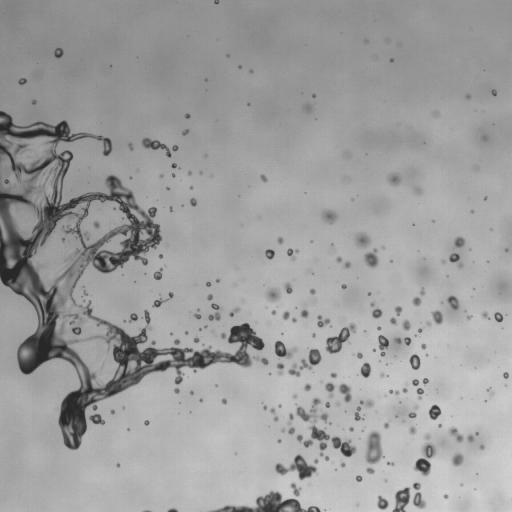droplet: (364, 430, 384, 464), (273, 340, 298, 359), (264, 287, 282, 307), (364, 247, 378, 268), (208, 302, 223, 321), (354, 232, 371, 248), (321, 209, 338, 224), (448, 426, 463, 442), (449, 253, 463, 269), (386, 172, 401, 186), (428, 404, 441, 420), (446, 295, 459, 310), (89, 413, 105, 425), (409, 353, 420, 370), (317, 314, 330, 328), (376, 495, 388, 510), (360, 362, 371, 378), (286, 248, 299, 261), (431, 310, 443, 324), (451, 452, 463, 466), (290, 482, 301, 496), (123, 313, 138, 323), (300, 303, 309, 318), (359, 399, 374, 408), (153, 267, 163, 280), (454, 236, 465, 247), (371, 307, 382, 318), (67, 122, 78, 133), (56, 140, 67, 151), (399, 176, 410, 187), (121, 178, 132, 189), (133, 194, 144, 205), (345, 236, 356, 247), (274, 245, 285, 256), (144, 248, 155, 259), (356, 258, 367, 269), (147, 260, 158, 271), (85, 263, 96, 274), (339, 268, 350, 279), (339, 271, 350, 282), (280, 299, 291, 310), (402, 301, 413, 312), (439, 303, 450, 314), (382, 307, 393, 318), (306, 313, 317, 324), (378, 314, 389, 325), (25, 324, 36, 335), (126, 326, 137, 337), (227, 342, 238, 353), (263, 342, 274, 353), (408, 342, 419, 353), (291, 352, 302, 363), (268, 353, 279, 364), (39, 360, 50, 371), (208, 361, 219, 372), (413, 368, 424, 379), (141, 373, 152, 384), (69, 380, 80, 391), (125, 384, 136, 395), (317, 389, 328, 400), (332, 389, 343, 400), (52, 395, 63, 406), (96, 397, 107, 408), (277, 408, 288, 419), (277, 416, 288, 427), (325, 426, 336, 437), (414, 436, 425, 447), (378, 437, 389, 448), (452, 442, 463, 453), (355, 443, 366, 454), (281, 456, 292, 467), (315, 460, 326, 471), (412, 470, 423, 481), (401, 319, 410, 331), (407, 423, 416, 435), (276, 362, 284, 375), (303, 103, 313, 113), (281, 310, 291, 320), (328, 243, 336, 255), (284, 282, 292, 294), (486, 386, 494, 398), (54, 48, 63, 58), (413, 186, 423, 195), (265, 249, 274, 259), (412, 296, 421, 306), (494, 312, 503, 322), (416, 388, 424, 399), (388, 389, 400, 396), (49, 117, 58, 126), (95, 140, 104, 149), (133, 140, 142, 149), (392, 165, 401, 174), (186, 175, 195, 184), (379, 175, 388, 184), (386, 183, 395, 192), (101, 185, 110, 194), (60, 195, 69, 204), (140, 202, 149, 211), (328, 203, 337, 212), (314, 206, 323, 215), (333, 217, 342, 226), (319, 219, 328, 228), (366, 229, 375, 238), (155, 242, 164, 251), (258, 286, 267, 295), (72, 287, 81, 296), (260, 296, 269, 305), (267, 300, 276, 309), (148, 307, 157, 316), (219, 308, 228, 317), (291, 308, 300, 317), (472, 312, 481, 321), (136, 318, 145, 327), (398, 329, 407, 338), (165, 339, 174, 348), (136, 342, 145, 351), (193, 343, 202, 352), (245, 344, 254, 353), (318, 347, 327, 356), (257, 348, 266, 357), (250, 358, 259, 367), (166, 366, 175, 375), (332, 377, 341, 386), (58, 389, 67, 398), (307, 389, 316, 398), (349, 397, 358, 406), (83, 406, 92, 415), (315, 420, 324, 429), (441, 422, 450, 431), (52, 423, 61, 432), (375, 424, 384, 433), (377, 427, 386, 436), (415, 427, 424, 436), (302, 430, 311, 439), (79, 433, 88, 442), (472, 436, 481, 445), (433, 443, 442, 452), (259, 487, 268, 496), (233, 498, 242, 507), (247, 499, 256, 508), (387, 499, 396, 508), (299, 500, 308, 509), (394, 306, 402, 316), (481, 311, 490, 319), (193, 335, 202, 343), (170, 162, 180, 169), (403, 505, 414, 511), (389, 317, 397, 325), (304, 383, 312, 391), (18, 78, 27, 85), (190, 197, 197, 206), (412, 377, 419, 386), (366, 467, 375, 474), (354, 475, 363, 482), (352, 352, 362, 358), (379, 372, 389, 378), (432, 110, 439, 118), (260, 174, 267, 182), (93, 220, 100, 228), (502, 371, 509, 379), (422, 378, 429, 386), (408, 411, 416, 418), (467, 434, 474, 442), (419, 287, 425, 296), (291, 391, 297, 400), (241, 65, 248, 72), (306, 96, 313, 103), (157, 147, 164, 154), (167, 156, 174, 163), (191, 169, 198, 176), (113, 170, 120, 177), (188, 190, 195, 197), (71, 191, 78, 198), (151, 216, 158, 223), (1, 232, 8, 239), (365, 245, 372, 252), (453, 246, 460, 253), (375, 251, 382, 258), (94, 269, 101, 276), (205, 286, 212, 293), (279, 288, 286, 295), (410, 304, 417, 311), (276, 309, 283, 316), (136, 310, 143, 317), (389, 310, 396, 317), (200, 313, 207, 320), (426, 314, 433, 321), (296, 315, 303, 322), (395, 315, 402, 322), (374, 317, 381, 324), (235, 319, 242, 326), (117, 321, 124, 328), (355, 324, 362, 331), (314, 326, 321, 333), (254, 330, 261, 337), (404, 330, 411, 337), (187, 332, 194, 339), (372, 340, 379, 347), (153, 342, 160, 349), (177, 342, 184, 349), (284, 343, 291, 350), (416, 349, 423, 356), (278, 355, 285, 362), (357, 358, 364, 365), (229, 361, 236, 368), (12, 362, 19, 369), (207, 363, 214, 370), (180, 365, 187, 372), (271, 366, 278, 373), (300, 367, 307, 374), (155, 369, 162, 376), (332, 386, 339, 393), (348, 388, 355, 395), (112, 392, 119, 399), (340, 400, 347, 407), (321, 406, 328, 413), (53, 410, 60, 417), (293, 414, 300, 421), (85, 419, 92, 426), (350, 419, 357, 426), (364, 427, 371, 434), (457, 427, 464, 434), (56, 434, 63, 441), (449, 434, 456, 441), (427, 437, 434, 444), (312, 438, 319, 445), (325, 439, 332, 446), (417, 451, 424, 458), (447, 451, 454, 458), (342, 455, 349, 462), (305, 458, 312, 465), (409, 458, 416, 465), (460, 459, 467, 466), (370, 462, 377, 469), (454, 464, 461, 471), (292, 469, 299, 476), (361, 471, 368, 478), (408, 488, 415, 495), (217, 501, 224, 508), (277, 236, 283, 244), (193, 313, 201, 319), (384, 420, 390, 428), (384, 506, 393, 511), (182, 129, 189, 135), (206, 294, 213, 300), (291, 316, 297, 323), (330, 372, 337, 378), (128, 142, 133, 150), (340, 459, 345, 467), (386, 461, 394, 466), (465, 93, 471, 99), (482, 135, 488, 141), (172, 145, 178, 151), (221, 398, 227, 404), (0, 218, 4, 227), (426, 320, 431, 327), (421, 343, 426, 350), (491, 89, 496, 95), (184, 113, 190, 118), (206, 281, 211, 287), (370, 301, 375, 307), (271, 309, 276, 315), (466, 315, 472, 320), (325, 401, 330, 407), (413, 404, 419, 409), (348, 426, 354, 431), (479, 444, 484, 450), (443, 494, 449, 499), (169, 205, 173, 212), (31, 99, 36, 104), (380, 245, 385, 250), (441, 259, 446, 264), (341, 284, 346, 289), (262, 405, 267, 410), (144, 420, 149, 425), (60, 54, 65, 59), (53, 56, 58, 61), (31, 94, 36, 99), (31, 104, 36, 109), (3, 108, 8, 113), (180, 111, 185, 116), (32, 117, 37, 122), (186, 117, 191, 122), (11, 119, 16, 124), (66, 120, 71, 125), (179, 126, 184, 131), (80, 127, 85, 132), (94, 130, 99, 135), (102, 132, 107, 137), (81, 136, 86, 141), (149, 136, 154, 141), (91, 137, 96, 142), (98, 139, 103, 144), (110, 140, 115, 145), (167, 144, 172, 149), (124, 145, 129, 150), (147, 146, 152, 151), (161, 148, 166, 153), (55, 149, 60, 154), (169, 149, 174, 154), (108, 151, 113, 156), (69, 159, 74, 164), (171, 167, 176, 172), (65, 170, 70, 175), (264, 172, 269, 177), (256, 176, 261, 181), (195, 199, 200, 204), (185, 200, 190, 205), (152, 202, 157, 207), (158, 230, 163, 235), (460, 233, 465, 238), (281, 234, 286, 239), (158, 240, 163, 245), (449, 240, 454, 245), (267, 244, 272, 249), (138, 251, 143, 256), (336, 251, 341, 256), (128, 254, 133, 259), (272, 254, 277, 259), (331, 255, 336, 260), (444, 256, 449, 261), (341, 257, 346, 262), (457, 257, 462, 262), (136, 258, 141, 263), (122, 261, 127, 266), (451, 261, 456, 266), (349, 263, 354, 268), (115, 265, 120, 270), (344, 267, 349, 272), (79, 274, 84, 279), (76, 279, 81, 284), (339, 279, 344, 284), (210, 280, 215, 285), (290, 284, 295, 289), (423, 287, 428, 292), (305, 290, 310, 295), (314, 290, 319, 295), (11, 291, 16, 296), (447, 291, 452, 296), (451, 291, 456, 296), (415, 292, 420, 297), (202, 293, 207, 298), (18, 294, 23, 299), (84, 295, 89, 300), (419, 295, 424, 300), (408, 296, 413, 301), (168, 297, 173, 302), (210, 298, 215, 303), (75, 299, 80, 304), (81, 301, 86, 306), (235, 301, 240, 306), (396, 301, 401, 306), (159, 302, 164, 307), (377, 304, 382, 309), (370, 305, 375, 310), (297, 306, 302, 311), (305, 306, 310, 311), (431, 306, 436, 311), (227, 307, 232, 312), (210, 308, 215, 313), (90, 310, 95, 315), (148, 312, 153, 317), (367, 312, 372, 317), (461, 312, 466, 317), (288, 313, 293, 318), (489, 313, 494, 318), (269, 314, 274, 319), (102, 315, 107, 320), (441, 315, 446, 320), (502, 315, 507, 320), (191, 316, 196, 321), (286, 317, 291, 322), (313, 317, 318, 322), (482, 317, 487, 322), (490, 317, 495, 322), (211, 318, 216, 323), (430, 319, 435, 324), (248, 323, 253, 328), (323, 323, 328, 328), (389, 323, 394, 328), (377, 329, 382, 334), (145, 330, 150, 335), (225, 331, 230, 336), (333, 331, 338, 336), (384, 333, 389, 338), (170, 335, 175, 340), (347, 335, 352, 340), (399, 335, 404, 340), (410, 336, 415, 341), (261, 338, 266, 343), (387, 339, 392, 344), (400, 339, 405, 344), (341, 341, 346, 346), (425, 343, 430, 348), (311, 344, 316, 349), (209, 347, 214, 352), (382, 347, 387, 352), (375, 348, 380, 353), (334, 351, 339, 356), (331, 352, 336, 357), (352, 354, 357, 359), (405, 354, 410, 359), (257, 360, 262, 365), (66, 361, 71, 366), (297, 361, 302, 366), (311, 364, 316, 369), (195, 366, 200, 371), (330, 367, 335, 372), (16, 368, 21, 373), (356, 369, 361, 374), (368, 371, 373, 376), (358, 373, 363, 378), (290, 374, 295, 379), (501, 377, 506, 382), (306, 379, 311, 384), (344, 380, 349, 385), (300, 382, 305, 387), (417, 382, 422, 387), (175, 383, 180, 388), (320, 383, 325, 388), (310, 384, 315, 389), (412, 385, 417, 390), (397, 386, 402, 391), (398, 390, 403, 395), (287, 391, 292, 396), (413, 392, 418, 397), (222, 393, 227, 398), (361, 396, 366, 401), (216, 398, 221, 403), (94, 400, 99, 405), (329, 401, 334, 406), (436, 402, 441, 407), (266, 404, 271, 409), (426, 404, 431, 409), (370, 405, 375, 410), (274, 407, 279, 412), (409, 407, 414, 412), (304, 408, 309, 413), (413, 408, 418, 413), (291, 409, 296, 414), (358, 411, 363, 416), (424, 412, 429, 417), (269, 413, 274, 418), (100, 414, 105, 419), (284, 414, 289, 419), (436, 414, 441, 419), (326, 416, 331, 421), (382, 417, 387, 422), (356, 419, 361, 424), (96, 422, 101, 427), (388, 422, 393, 427), (453, 423, 458, 428), (344, 424, 349, 429), (284, 425, 289, 430), (414, 425, 419, 430), (404, 427, 409, 432), (324, 429, 329, 434), (283, 430, 288, 435), (292, 431, 297, 436), (408, 433, 413, 438), (462, 435, 467, 440), (78, 443, 83, 448), (483, 443, 488, 448), (63, 445, 68, 450), (335, 447, 340, 452), (71, 448, 76, 453), (291, 452, 296, 457), (350, 452, 355, 457), (319, 456, 324, 461), (270, 464, 275, 469), (336, 464, 341, 469), (276, 472, 281, 477), (303, 476, 308, 481), (398, 485, 403, 490), (272, 487, 277, 492), (392, 488, 397, 493), (298, 489, 303, 494), (381, 493, 386, 498), (291, 494, 296, 499), (420, 494, 425, 499), (280, 496, 285, 501), (408, 496, 413, 501), (373, 497, 378, 502), (167, 504, 172, 509), (318, 505, 323, 510), (203, 325, 209, 329), (311, 332, 315, 338), (278, 403, 282, 409), (0, 116, 3, 123), (214, 0, 219, 4), (389, 58, 394, 62), (248, 69, 253, 73), (312, 93, 316, 98), (187, 170, 191, 175), (165, 186, 170, 190), (483, 196, 487, 201), (158, 254, 163, 258), (184, 330, 188, 335), (189, 390, 193, 395), (335, 402, 340, 406), (110, 409, 114, 414), (438, 423, 442, 428), (280, 428, 285, 432), (277, 438, 281, 443), (116, 462, 120, 467), (364, 39, 368, 43), (238, 65, 242, 69), (171, 173, 175, 177), (159, 174, 163, 178), (189, 185, 193, 189), (470, 209, 474, 213), (431, 219, 435, 223), (504, 248, 508, 252), (389, 259, 393, 263), (216, 278, 220, 282), (367, 291, 371, 295), (196, 308, 200, 312), (377, 326, 381, 330), (319, 380, 323, 384), (199, 398, 203, 402), (232, 283, 237, 286), (384, 478, 387, 483), (508, 247, 511, 252), (508, 372, 511, 377), (378, 508, 383, 511), (226, 54, 230, 57), (247, 102, 250, 106), (199, 171, 202, 175), (350, 198, 354, 201), (198, 328, 202, 331), (169, 332, 173, 335), (372, 348, 375, 352), (425, 353, 428, 357), (214, 384, 218, 387), (384, 393, 387, 397), (475, 432, 479, 435), (356, 502, 359, 506), (0, 279, 2, 284), (204, 78, 207, 81), (204, 154, 207, 157), (129, 176, 132, 179), (489, 228, 492, 231), (310, 240, 313, 243), (422, 257, 425, 260), (486, 260, 489, 263), (164, 264, 167, 267), (82, 299, 85, 302), (440, 301, 443, 304), (294, 306, 297, 309), (363, 329, 366, 332), (202, 343, 205, 346), (268, 372, 271, 375), (504, 383, 507, 386), (398, 400, 401, 403), (122, 406, 125, 409), (374, 410, 377, 413), (395, 414, 398, 417), (127, 428, 130, 431), (334, 468, 337, 471), (460, 483, 463, 486), (214, 3, 217, 6), (57, 44, 60, 47), (51, 52, 54, 55), (388, 55, 391, 58), (386, 58, 389, 61), (393, 58, 396, 61), (108, 61, 111, 64), (390, 61, 393, 64), (239, 62, 242, 65), (235, 63, 238, 66), (111, 64, 114, 67), (235, 66, 238, 69), (252, 68, 255, 71), (249, 72, 252, 75), (23, 75, 26, 78), (207, 78, 210, 81), (16, 82, 19, 85), (23, 82, 26, 85), (495, 92, 498, 95), (308, 94, 311, 97), (492, 95, 495, 98), (314, 96, 317, 99), (28, 99, 31, 102), (244, 100, 247, 103), (35, 101, 38, 104), (249, 101, 252, 104), (247, 105, 250, 108), (187, 111, 190, 114), (184, 117, 187, 120), (184, 126, 187, 129), (185, 133, 188, 136), (76, 138, 79, 141), (159, 140, 162, 143), (125, 141, 128, 144), (177, 144, 180, 147), (71, 151, 74, 154), (72, 154, 75, 157), (165, 155, 168, 158), (168, 163, 171, 166), (159, 170, 162, 173), (184, 171, 187, 174), (130, 173, 133, 176), (169, 175, 172, 178), (173, 176, 176, 179), (159, 177, 162, 180), (187, 183, 190, 186), (167, 184, 170, 187), (192, 185, 195, 188), (187, 188, 190, 191), (303, 188, 306, 191), (165, 189, 168, 192), (481, 195, 484, 198), (486, 197, 489, 200), (191, 205, 194, 208), (180, 206, 183, 209), (166, 207, 169, 210), (171, 207, 174, 210), (472, 207, 475, 210), (473, 210, 476, 213), (170, 211, 173, 214), (468, 212, 471, 215), (432, 216, 435, 219), (434, 220, 437, 223), (409, 221, 412, 224), (414, 222, 417, 225), (411, 225, 414, 228), (310, 236, 313, 239), (332, 241, 335, 244), (327, 242, 330, 245), (504, 244, 507, 247), (148, 246, 151, 249), (284, 248, 287, 251), (262, 249, 265, 252), (501, 249, 504, 252), (284, 252, 287, 255), (162, 254, 165, 257), (156, 256, 159, 259), (390, 256, 393, 259), (160, 257, 163, 260), (265, 257, 268, 260), (487, 257, 490, 260), (387, 261, 390, 264), (146, 262, 149, 265), (161, 265, 164, 268), (311, 269, 314, 272), (82, 270, 85, 273), (308, 272, 311, 275), (150, 274, 153, 277), (161, 274, 164, 277), (132, 277, 135, 280), (207, 278, 210, 281), (135, 279, 138, 282), (155, 279, 158, 282), (203, 280, 206, 283), (217, 281, 220, 284), (132, 282, 135, 285), (345, 283, 348, 286), (338, 284, 341, 287), (472, 284, 475, 287), (204, 285, 207, 288), (208, 285, 211, 288), (309, 285, 312, 288), (339, 287, 342, 290), (344, 287, 347, 290), (169, 289, 172, 292), (85, 290, 88, 293), (290, 291, 293, 294), (80, 292, 83, 295), (364, 292, 367, 295), (370, 292, 373, 295), (166, 294, 169, 297), (172, 294, 175, 297), (367, 295, 370, 298), (150, 301, 153, 304), (218, 304, 221, 307), (130, 310, 133, 313), (196, 311, 199, 314), (467, 312, 470, 315), (501, 313, 504, 316), (127, 316, 130, 319), (470, 316, 473, 319), (196, 318, 199, 321), (149, 319, 152, 322), (497, 321, 500, 324), (200, 325, 203, 328), (419, 325, 422, 328), (206, 326, 209, 329), (363, 326, 366, 329), (195, 327, 198, 330), (170, 329, 173, 332), (187, 329, 190, 332), (281, 329, 284, 332), (421, 329, 424, 332), (166, 331, 169, 334), (361, 331, 364, 334), (415, 331, 418, 334), (308, 333, 311, 336), (314, 333, 317, 336), (280, 339, 283, 342), (422, 340, 425, 343), (409, 341, 412, 344), (358, 349, 361, 352), (361, 352, 364, 355), (427, 352, 430, 355), (380, 355, 383, 358), (419, 359, 422, 362), (407, 361, 410, 364), (387, 363, 390, 366), (408, 364, 411, 367), (500, 371, 503, 374), (266, 374, 269, 377), (269, 374, 272, 377), (383, 375, 386, 378), (500, 375, 503, 378), (426, 376, 429, 379), (214, 380, 217, 383), (409, 380, 412, 383), (425, 382, 428, 385), (217, 383, 220, 386), (211, 384, 214, 387), (402, 384, 405, 387), (485, 385, 488, 388), (215, 386, 218, 389), (388, 386, 391, 389), (192, 389, 195, 392), (171, 390, 174, 393), (386, 391, 389, 394), (485, 391, 488, 394), (484, 396, 487, 399), (196, 397, 199, 400), (202, 398, 205, 401), (226, 399, 229, 402), (486, 399, 489, 402), (198, 401, 201, 404), (482, 401, 485, 404), (221, 403, 224, 406), (358, 403, 361, 406), (398, 403, 401, 406), (260, 404, 263, 407), (280, 405, 283, 408), (124, 406, 127, 409), (114, 409, 117, 412), (191, 410, 194, 413), (341, 410, 344, 413), (391, 414, 394, 417), (277, 416, 280, 419), (395, 417, 398, 420), (408, 417, 411, 420), (411, 417, 414, 420), (147, 418, 150, 421), (141, 419, 144, 422), (103, 422, 106, 425), (141, 422, 144, 425), (147, 423, 150, 426), (128, 425, 131, 428), (475, 428, 478, 431), (126, 430, 129, 433), (478, 431, 481, 434), (472, 433, 475, 436), (275, 436, 278, 439), (280, 439, 283, 442), (276, 442, 279, 445), (483, 447, 486, 450), (479, 449, 482, 452), (327, 459, 330, 462), (388, 459, 391, 462), (113, 462, 116, 465), (119, 463, 122, 466), (387, 464, 390, 467), (342, 466, 345, 469), (331, 469, 334, 472), (474, 469, 477, 472), (356, 472, 359, 475), (474, 474, 477, 477), (353, 478, 356, 481), (360, 479, 363, 482), (386, 479, 389, 482), (456, 483, 459, 486), (445, 491, 448, 494), (442, 497, 445, 500), (144, 507, 147, 510), (210, 175, 213, 177), (468, 248, 471, 250), (472, 288, 475, 290), (329, 325, 332, 327), (281, 332, 283, 335), (378, 360, 381, 362), (460, 397, 463, 399), (484, 400, 487, 402), (402, 420, 405, 422), (234, 452, 236, 455), (331, 461, 334, 463), (475, 473, 478, 475), (473, 488, 476, 490), (325, 509, 328, 511), (109, 65, 111, 67), (492, 123, 494, 125), (181, 204, 183, 206), (412, 223, 414, 225), (446, 275, 448, 277), (265, 306, 267, 308), (464, 310, 466, 312), (505, 313, 507, 315), (386, 363, 388, 365), (474, 367, 476, 369), (261, 402, 263, 404), (189, 411, 191, 413), (344, 410, 346, 412), (358, 437, 360, 439), (324, 509, 326, 511), (211, 0, 214, 1), (218, 0, 221, 1), (304, 192, 305, 194), (417, 250, 419, 251), (144, 273, 146, 274), (134, 280, 135, 282), (394, 355, 395, 357), (356, 374, 357, 375)
ligament: (413, 432, 436, 476), (325, 322, 356, 354), (141, 137, 171, 157), (152, 291, 173, 308), (377, 334, 389, 356), (336, 256, 351, 268), (393, 337, 411, 345), (269, 407, 278, 421), (229, 307, 241, 317), (309, 288, 316, 304), (414, 326, 424, 337), (81, 285, 88, 297), (401, 382, 408, 393), (166, 507, 178, 511), (308, 268, 314, 275), (361, 426, 366, 432), (142, 510, 151, 511), (451, 416, 453, 417)
